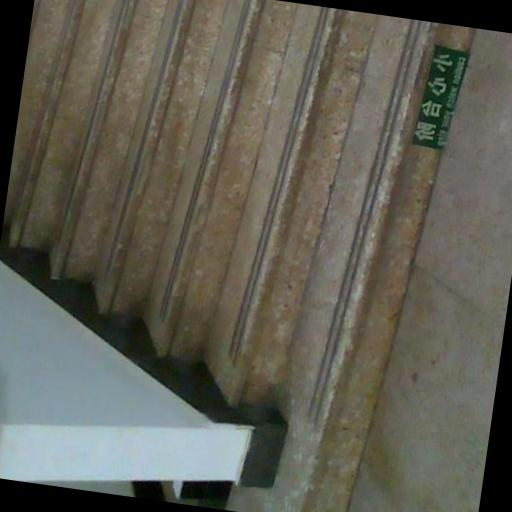stairs: (3, 0, 473, 420)
